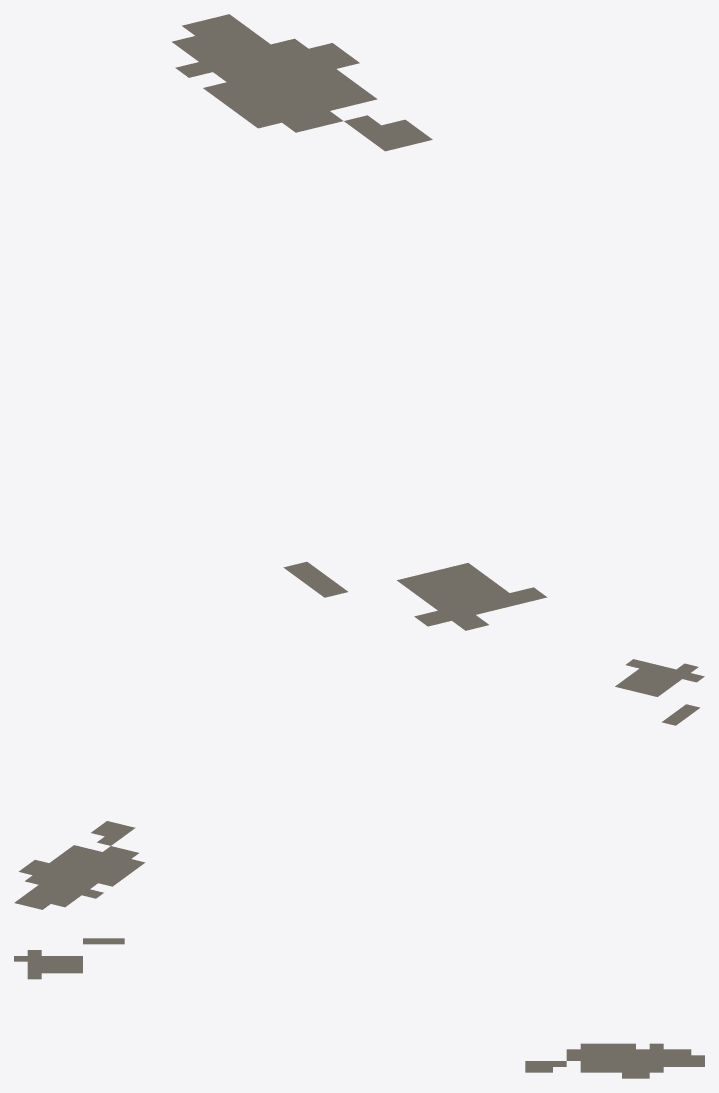
Rendered from Isl-orc3-RocksArea.fbx.
3 renders of one model, top to bottom at view 1: azimuth 30°, elevation 25°; view 2: azimuth 150°, elevation 25°; view 3: azimuth 270°, elevation 25°, orthographic. The views are drawn at different scales.
Visible parts, largest first — view 1: Isl-orc3-RocksArea; view 2: Isl-orc3-RocksArea; view 3: Isl-orc3-RocksArea.
Boxes of the visible parts, left/top/right/bottom form: Isl-orc3-RocksArea: left=172, top=14, right=547, bottom=630; Isl-orc3-RocksArea: left=14, top=659, right=704, bottom=909; Isl-orc3-RocksArea: left=14, top=938, right=704, bottom=1078.
Size of the model in its own units: 24 by 0 by 50.
